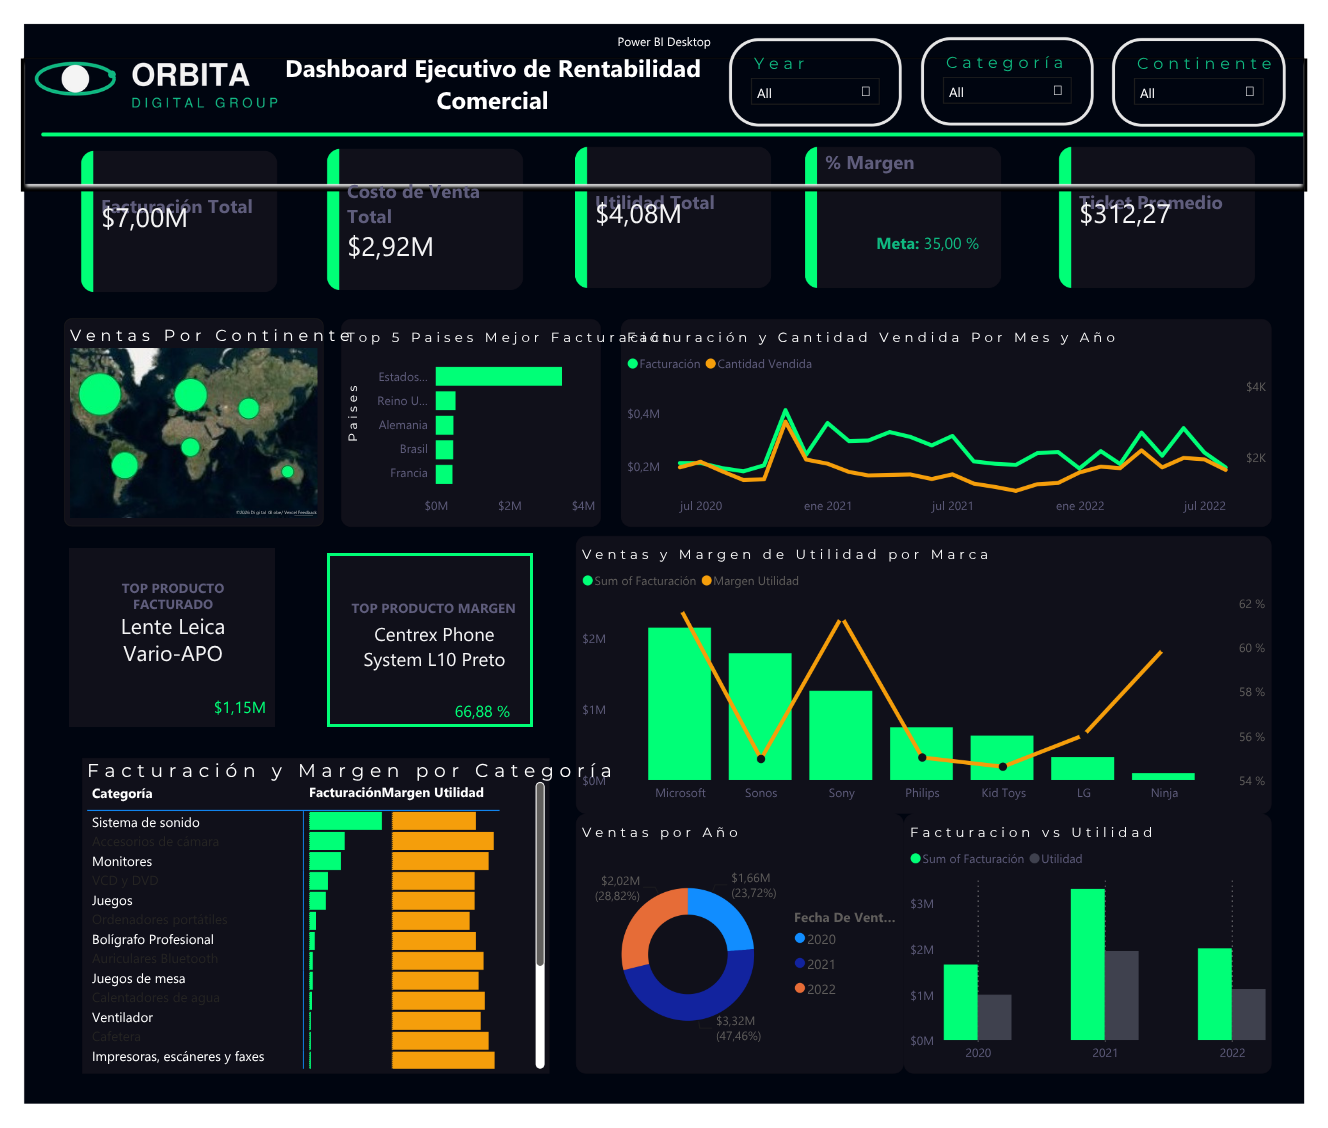

This screenshot's page, from the dashboard's own definition file:
{"tool":"powerbi","page":{"name":"Page 1","canvas":[1280,1080],"ordinal":0},"visuals":[{"type":"cardVisual","fields":{"Data":["Sum(Ventas.Facturación)"]},"box":[40,110,230,175],"z":0},{"type":"cardVisual","fields":{"Data":["Sum(Ventas.Costo Venta)"]},"box":[286,108,230,175],"z":1000},{"type":"cardVisual","fields":{"Data":["Ventas.Utilidad"]},"box":[534,106,230,175],"z":2000},{"type":"cardVisual","fields":{"Data":["Ventas.Ticket Promedio"]},"box":[1018,106,230,175],"z":3000},{"type":"cardVisual","fields":{"Data":["Ventas.Margen Utilidad"]},"box":[764,106,230,175],"z":4000},{"type":"shape","box":[16.7,23.3,1263.3,175],"z":5000},{"type":"image","box":[0,8.3,270,98.3],"z":6000},{"type":"textbox","box":[215,20,506.7,108.3],"z":7000},{"type":"slicer","fields":{"Values":["Ventas.Fecha De Venta.Variation.Date Hierarchy.Year"]},"box":[705,14,173,89],"z":8000},{"type":"slicer","fields":{"Values":["Ventas.Categoría"]},"box":[896.7,13.3,173.3,88.3],"z":9000},{"type":"slicer","fields":{"Values":["Ventas.Continente"]},"box":[1088,14,174,89],"z":10000},{"type":"azureMap","title":"Ventas Por Continente","fields":{"Size":["Sum(Ventas.Facturación)"],"Category":["Ventas.Continente"]},"box":[40,294.3,260,208.6],"z":11000},{"type":"barChart","title":"Top 5 Paises Mejor Facturación","fields":{"Category":["Ventas.País"],"Y":["Sum(Ventas.Facturación)"]},"box":[317.3,294.5,260,208.2],"z":12000},{"type":"lineChart","title":"Facturación y Cantidad Vendida Por Mes y Año","fields":{"Category":["Ventas.Fecha De Venta.Variation.Date Hierarchy.Year","Ventas.Fecha De Venta.Variation.Date Hierarchy.Month"],"Y":["Sum(Ventas.Facturación)"],"Y2":["Sum(Ventas.Cantidad Vendida)"]},"box":[596.7,295,651.7,208.3],"z":13000},{"type":"cardVisual","fields":{"Data":["Min(Ventas.Producto)"]},"box":[28,512,240,208],"z":14000},{"type":"cardVisual","fields":{"Data":["Min(Ventas.Producto)"]},"box":[286,512,240,208],"z":15000},{"type":"lineStackedColumnComboChart","title":"Ventas y Margen de Utilidad por Marca","fields":{"Category":["Ventas.Marca"],"Y":["Sum(Ventas.Facturación)"],"Y2":["Ventas.Margen Utilidad"]},"box":[552,512,696,278],"z":16000},{"type":"pivotTable","title":"Facturación y Margen por Categoría","fields":{"Rows":["Ventas.Categoría"],"Values":["Sum(Ventas.Facturación)","Ventas.Margen Utilidad"]},"box":[58,734,468,316],"z":17000},{"type":"donutChart","title":"Ventas por Año","fields":{"Category":["Ventas.Fecha De Venta.Variation.Date Hierarchy.Year"],"Y":["Sum(Ventas.Facturación)"]},"box":[552,790,328,260],"z":18000},{"type":"clusteredColumnChart","title":"Facturacion vs Utilidad","fields":{"Category":["Ventas.Fecha De Venta.Variation.Date Hierarchy.Year"],"Y":["Sum(Ventas.Facturación)","Ventas.Utilidad"]},"box":[880,790,368,260],"z":19000}]}

Visuals, with their boxes on the page's 1280x1080 design canvas (x1, y1, x2, y2). These are canvas units, not pixel positions in the 1328x1128 screenshot, which may show the page scaled, cropped or inside an application window:
cardVisual - Sum(Ventas.Facturación): {"left": 40, "top": 110, "right": 270, "bottom": 285}
cardVisual - Sum(Ventas.Costo Venta): {"left": 286, "top": 108, "right": 516, "bottom": 283}
cardVisual - Ventas.Utilidad: {"left": 534, "top": 106, "right": 764, "bottom": 281}
cardVisual - Ventas.Ticket Promedio: {"left": 1018, "top": 106, "right": 1248, "bottom": 281}
cardVisual - Ventas.Margen Utilidad: {"left": 764, "top": 106, "right": 994, "bottom": 281}
shape: {"left": 17, "top": 23, "right": 1280, "bottom": 198}
image: {"left": 0, "top": 8, "right": 270, "bottom": 107}
textbox: {"left": 215, "top": 20, "right": 722, "bottom": 128}
slicer - Ventas.Fecha De Venta.Variation.Date Hierarchy.Year: {"left": 705, "top": 14, "right": 878, "bottom": 103}
slicer - Ventas.Categoría: {"left": 897, "top": 13, "right": 1070, "bottom": 102}
slicer - Ventas.Continente: {"left": 1088, "top": 14, "right": 1262, "bottom": 103}
"Ventas Por Continente" azureMap: {"left": 40, "top": 294, "right": 300, "bottom": 503}
"Top 5 Paises Mejor Facturación" barChart: {"left": 317, "top": 294, "right": 577, "bottom": 503}
"Facturación y Cantidad Vendida Por Mes y Año" lineChart: {"left": 597, "top": 295, "right": 1248, "bottom": 503}
cardVisual - Min(Ventas.Producto): {"left": 28, "top": 512, "right": 268, "bottom": 720}
cardVisual - Min(Ventas.Producto): {"left": 286, "top": 512, "right": 526, "bottom": 720}
"Ventas y Margen de Utilidad por Marca" lineStackedColumnComboChart: {"left": 552, "top": 512, "right": 1248, "bottom": 790}
"Facturación y Margen por Categoría" pivotTable: {"left": 58, "top": 734, "right": 526, "bottom": 1050}
"Ventas por Año" donutChart: {"left": 552, "top": 790, "right": 880, "bottom": 1050}
"Facturacion vs Utilidad" clusteredColumnChart: {"left": 880, "top": 790, "right": 1248, "bottom": 1050}
